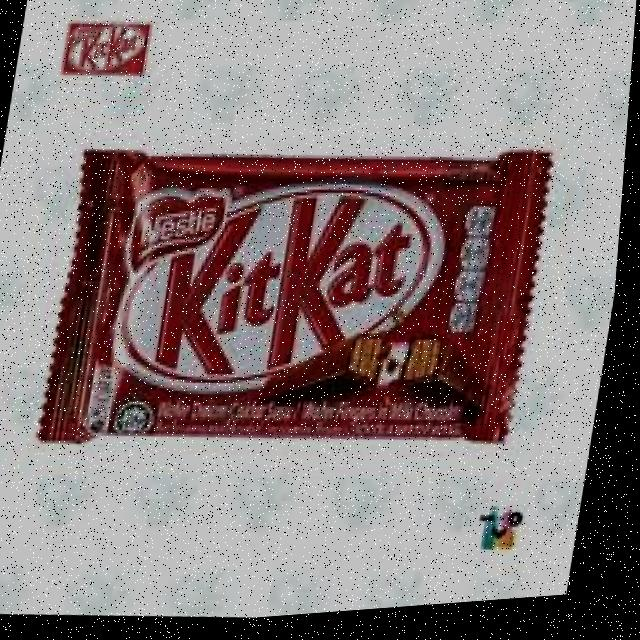kitkat: (41, 123, 566, 483)
